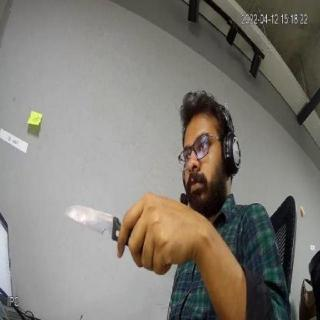knife: (61, 196, 125, 252)
